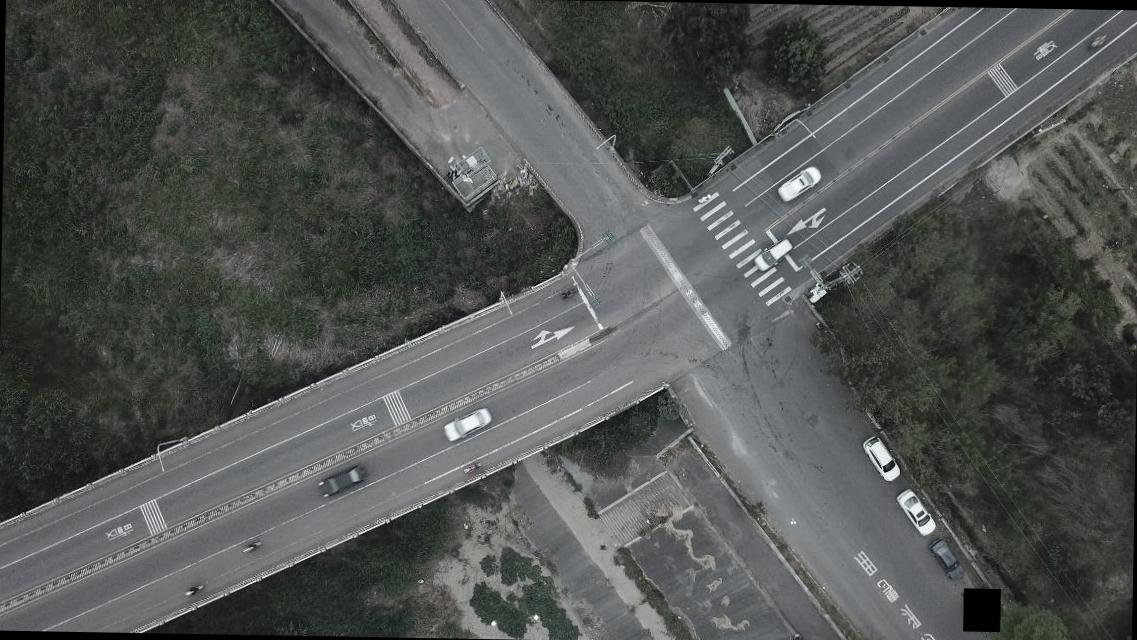vehicle: (860, 433, 902, 483), (776, 163, 821, 204), (895, 488, 935, 534), (318, 461, 367, 498), (443, 406, 492, 441), (928, 538, 966, 582), (754, 236, 796, 272)
